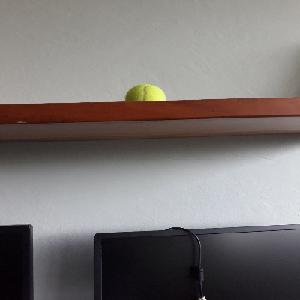Ball: (125, 83, 164, 100)
